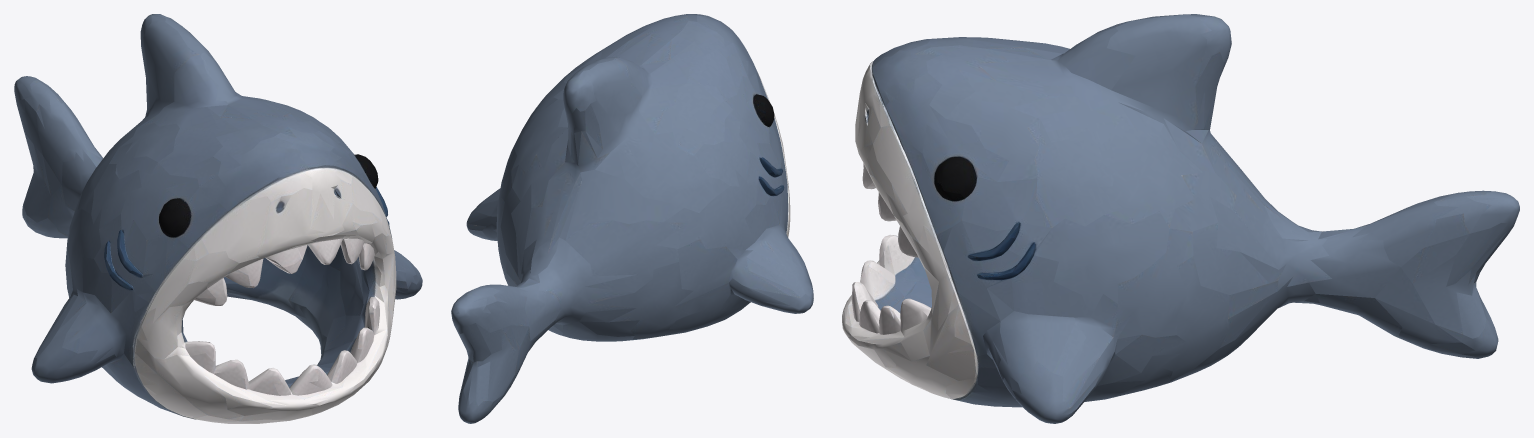
File: hat_shark.fbx
3 views of the same model, side by side, from view 1: azimuth 30°, elevation 25°; view 2: azimuth 150°, elevation 25°; view 3: azimuth 270°, elevation 25° (orthographic). The views are drawn at different scales.
Visible parts, largest first — view 1: Mesh_0; view 2: Mesh_0; view 3: Mesh_0.
Part boxes in pixels (bbox=[...]): Mesh_0: bbox=[14, 14, 422, 423]; Mesh_0: bbox=[451, 14, 813, 423]; Mesh_0: bbox=[842, 14, 1519, 423].
Size of the model in its own units: 1.41 by 1.08 by 1.9.
1 material, 1 textured.
